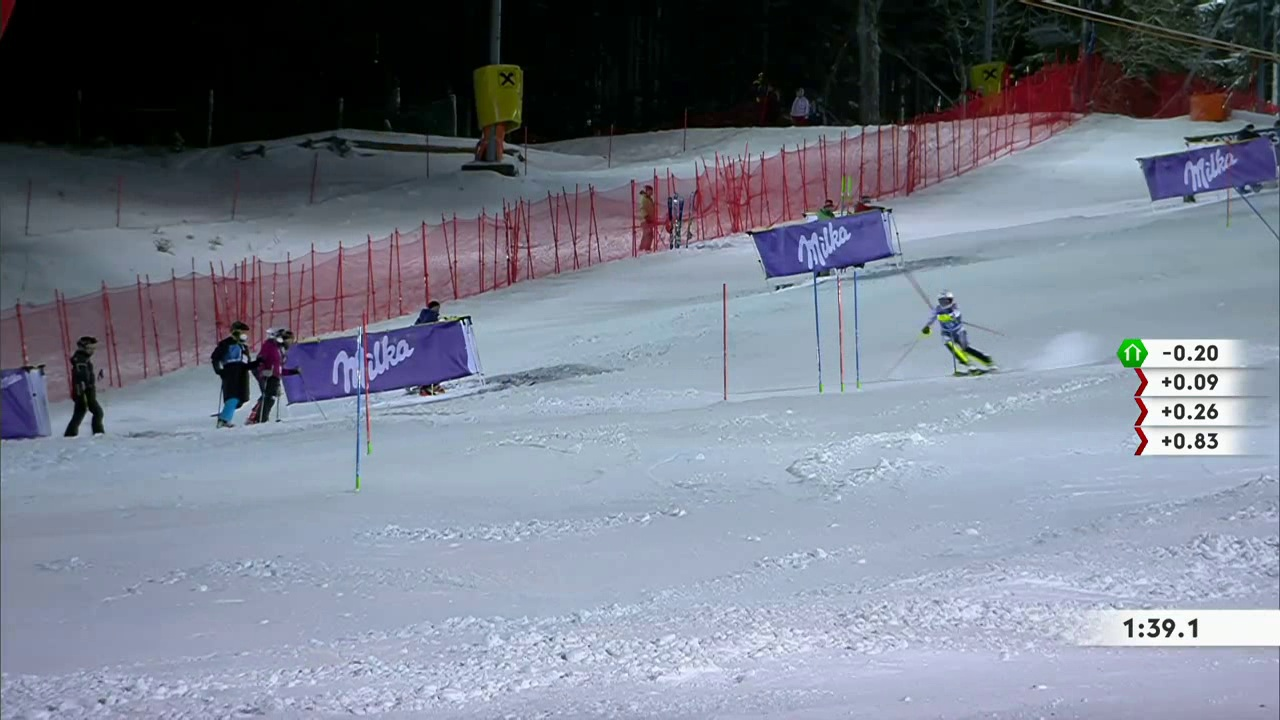milka: (310, 319, 459, 402), (757, 214, 885, 279), (1171, 145, 1264, 197)
raiffeisen: (493, 66, 523, 94)
